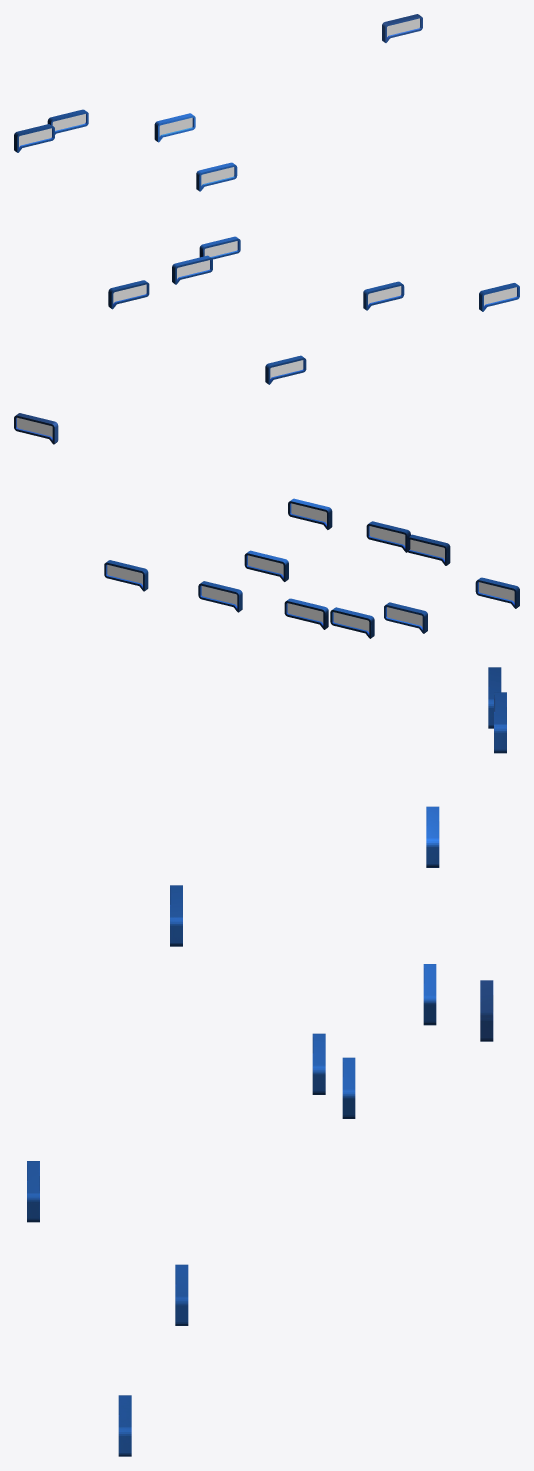
File: pop_up_photography_left.glb
3 views of the same model, one above another, from view 1: azimuth 30°, elevation 25°; view 2: azimuth 150°, elevation 25°; view 3: azimuth 270°, elevation 25° (orthographic). The views are drawn at different scales.
Visible parts, largest first — view 1: pop_up_social_networks, pop_up_games, pop_up_running, pop_up_development, pop_up_share_knowledge, pop_up_contact_me, pop_up_languages, pop_up_photography_right, pop_up_art, pop_up_stereoscopy, pop_up_photography_left; view 2: pop_up_contact_me, pop_up_languages, pop_up_photography_right, pop_up_social_networks, pop_up_share_knowledge, pop_up_development, pop_up_stereoscopy, pop_up_games, pop_up_photography_left, pop_up_running, pop_up_art; view 3: no part large enough to name.
Boxes of the visible parts, box(x1,y1,x2,y2) form: pop_up_social_networks: box(154, 113, 195, 142); pop_up_games: box(108, 280, 149, 309); pop_up_running: box(265, 355, 306, 384); pop_up_development: box(196, 162, 237, 191); pop_up_share_knowledge: box(363, 281, 404, 310); pop_up_contact_me: box(172, 255, 212, 284); pop_up_languages: box(382, 14, 422, 42); pop_up_photography_right: box(479, 283, 519, 311); pop_up_art: box(14, 124, 54, 152); pop_up_stereoscopy: box(199, 236, 240, 259); pop_up_photography_left: box(47, 109, 88, 134); pop_up_contact_me: box(330, 607, 374, 638); pop_up_languages: box(14, 413, 58, 444); pop_up_photography_right: box(104, 560, 148, 591); pop_up_social_networks: box(288, 498, 332, 529); pop_up_share_knowledge: box(198, 581, 242, 612); pop_up_development: box(244, 550, 288, 581); pop_up_stereoscopy: box(284, 598, 328, 629); pop_up_games: box(475, 577, 519, 608); pop_up_photography_left: box(366, 521, 410, 552); pop_up_running: box(384, 602, 427, 633); pop_up_art: box(408, 534, 450, 565).
Size of the model in its own units: 35.1 by 18.2 by 17.78.
11 materials, 11 textured.
